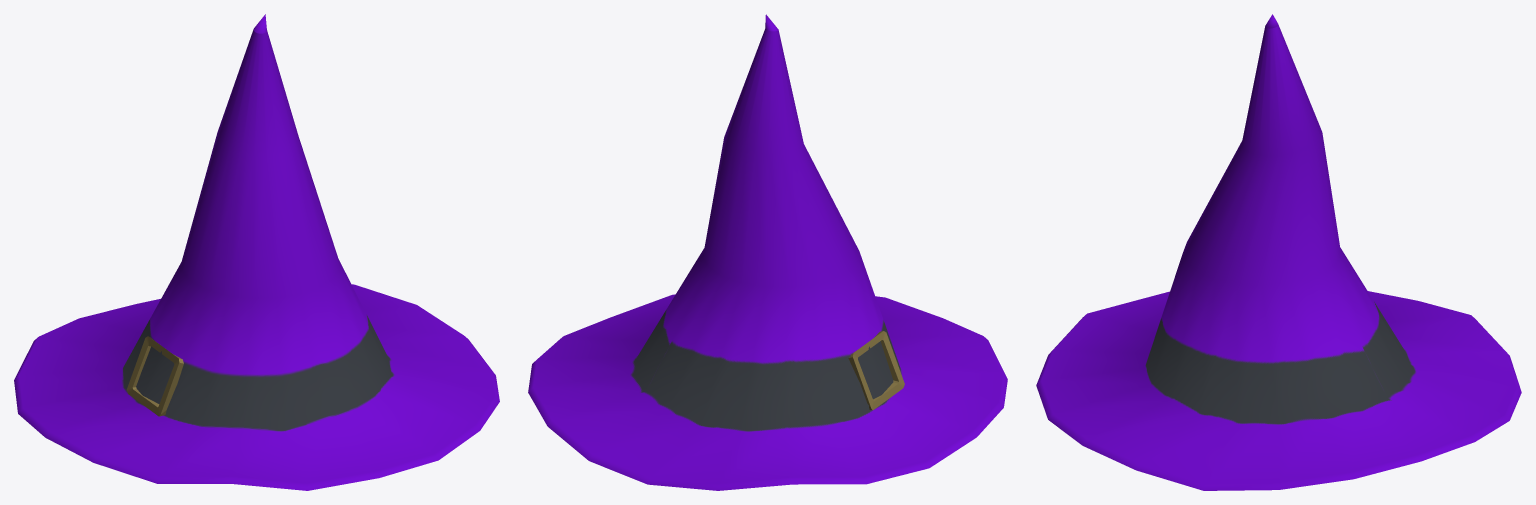
Rendered from witch_hat.fbx.
3 views of the same model, side by side, from view 1: azimuth 30°, elevation 25°; view 2: azimuth 150°, elevation 25°; view 3: azimuth 270°, elevation 25° (orthographic).
Visible parts, largest first — view 1: pCylinder2; view 2: pCylinder2; view 3: pCylinder2.
Boxes of the visible parts, x1=… form: pCylinder2: x1=14, y1=14, x2=499, y2=490; pCylinder2: x1=528, y1=14, x2=1007, y2=490; pCylinder2: x1=1036, y1=14, x2=1521, y2=490.
Size of the model in its own units: 2 by 1.74 by 2.
